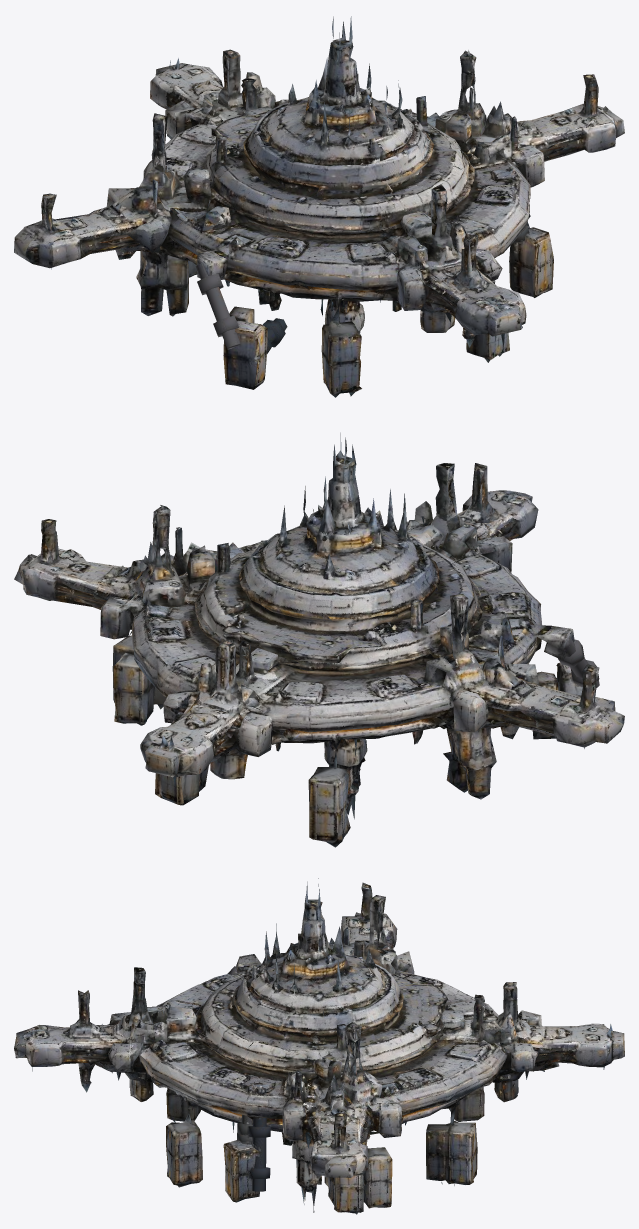
File: st3d_omega_emporium_lod1.glb
3 renders of one model, top to bottom at view 1: azimuth 30°, elevation 25°; view 2: azimuth 150°, elevation 25°; view 3: azimuth 270°, elevation 25°, orthographic. The views are drawn at different scales.
Parts seen in each view (by area): view 1: HOMELANCER_Station3D_Omega-WorldsEndEmporium_v1; view 2: HOMELANCER_Station3D_Omega-WorldsEndEmporium_v1; view 3: HOMELANCER_Station3D_Omega-WorldsEndEmporium_v1.
Part boxes in pixels (x1=…): HOMELANCER_Station3D_Omega-WorldsEndEmporium_v1: x1=14, y1=16, x2=624, y2=397; HOMELANCER_Station3D_Omega-WorldsEndEmporium_v1: x1=14, y1=432, x2=624, y2=847; HOMELANCER_Station3D_Omega-WorldsEndEmporium_v1: x1=14, y1=878, x2=624, y2=1214.
Size of the model in its own units: 0.9566 by 0.5886 by 0.9777.
1 material, 1 textured.
